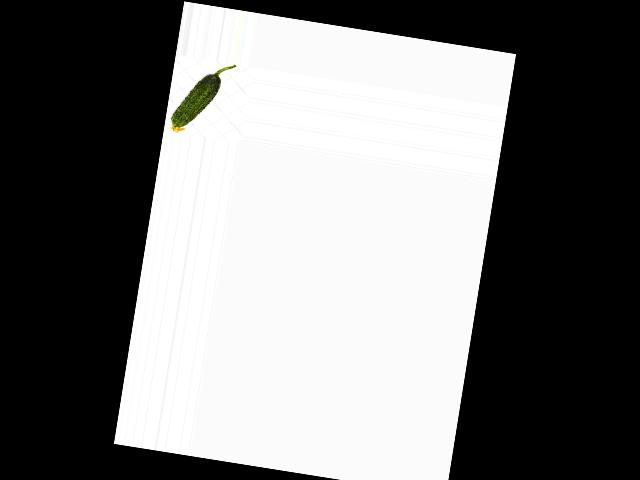cucumber: (168, 56, 235, 140)
